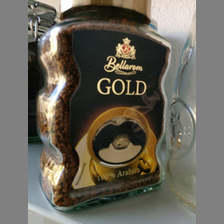coffee: (35, 1, 172, 214)
